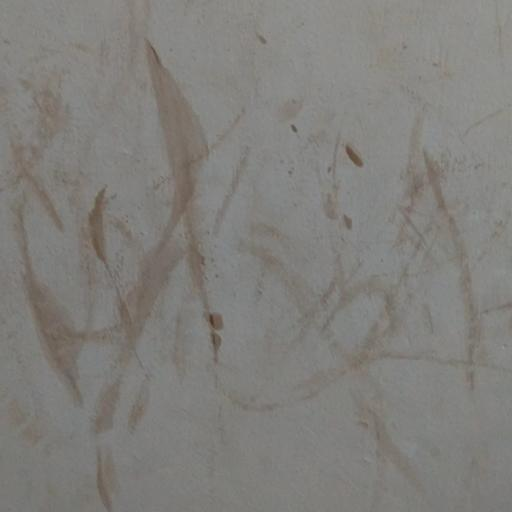stain: (0, 14, 512, 508)
